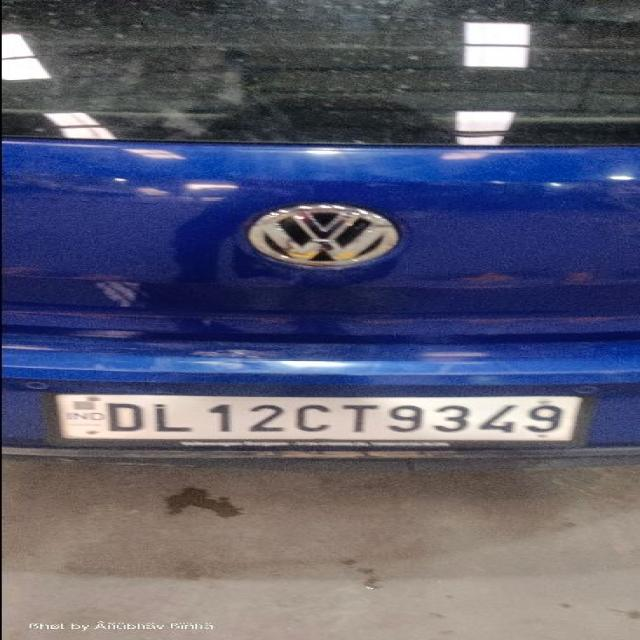license_plate: (40, 390, 593, 448), (232, 200, 406, 274)
